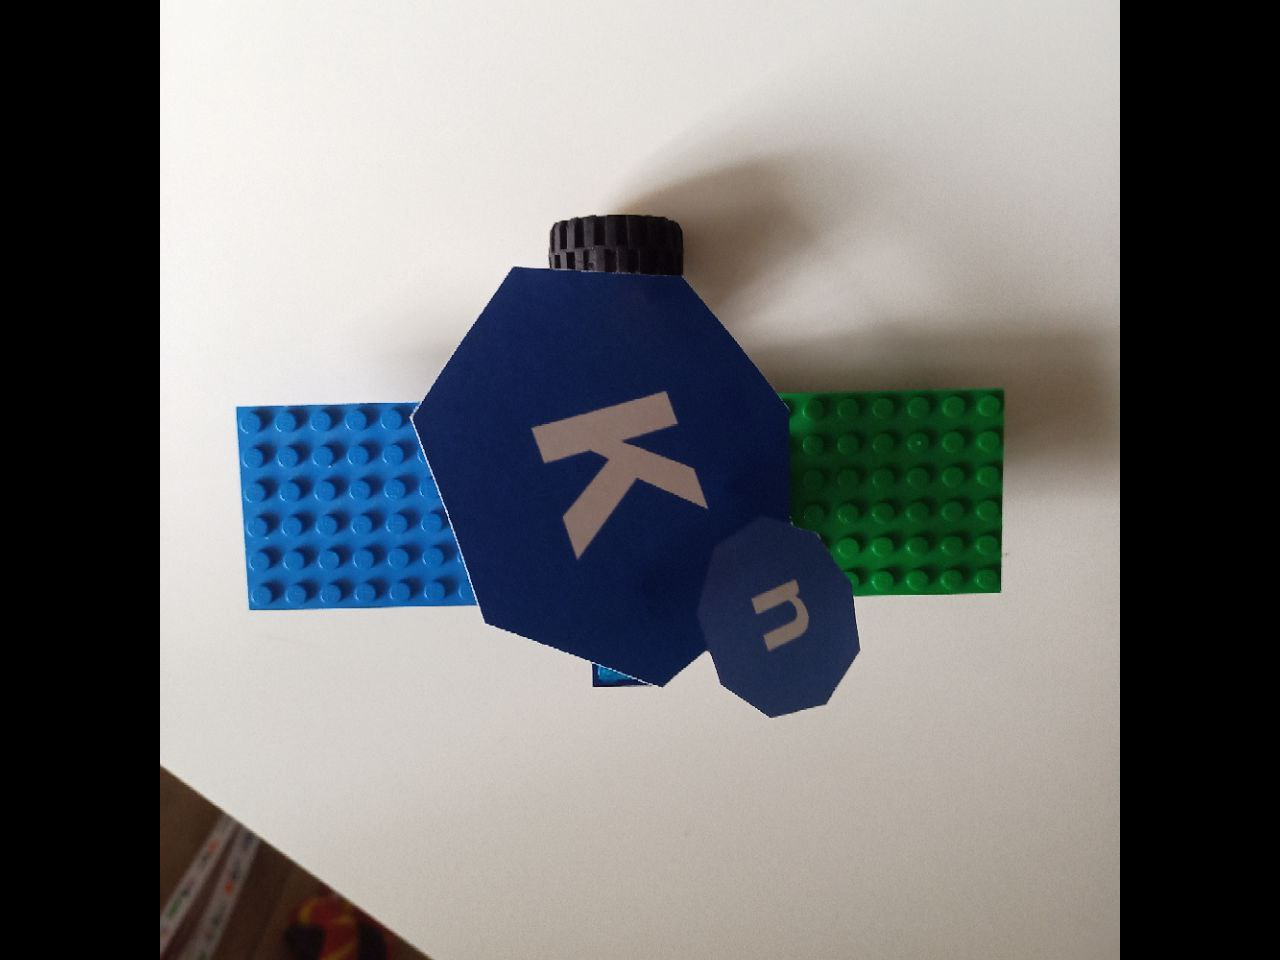knative: (409, 274, 861, 717)
